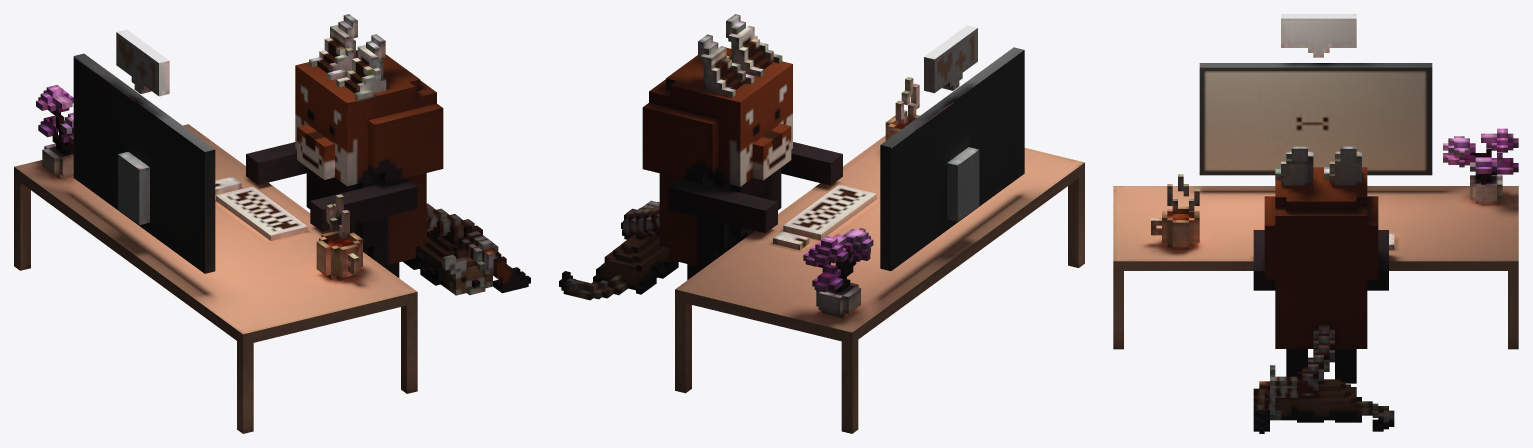
Rendered from pawda.glb.
The picture shows the model from 3 angles, left to right: view 1: azimuth 30°, elevation 25°; view 2: azimuth 150°, elevation 25°; view 3: azimuth 270°, elevation 25°; orthographic projection. The views are drawn at different scales.
Visible parts, largest first — view 1: Untitled; view 2: Untitled; view 3: Untitled.
Part boxes in pixels (x1,y1,x2,y2): Untitled: (14, 14, 530, 433); Untitled: (559, 14, 1084, 433); Untitled: (1113, 14, 1518, 433).
Size of what is drawn, in the model's own units: 7 by 5.4 by 7.5.
Materials: 1 (1 with a texture image).
